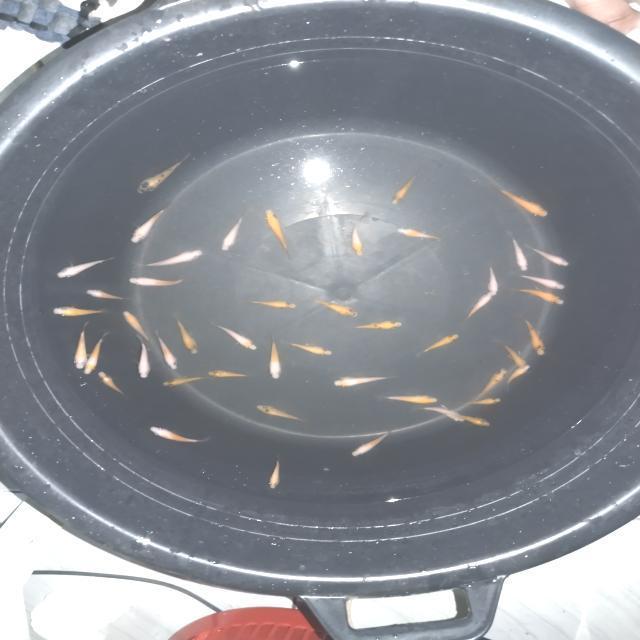nila: (134, 154, 196, 198), (486, 183, 552, 220), (260, 206, 296, 262), (136, 246, 212, 272), (208, 322, 258, 358), (148, 422, 217, 447), (127, 205, 167, 248), (511, 281, 568, 310), (54, 256, 122, 280), (520, 242, 577, 270), (344, 213, 376, 260), (348, 426, 393, 459), (168, 312, 202, 354), (388, 166, 422, 207), (518, 312, 548, 358), (492, 334, 530, 370), (410, 403, 466, 427), (413, 333, 462, 360), (82, 329, 110, 376), (310, 298, 362, 323), (251, 402, 310, 424), (460, 288, 498, 322), (390, 223, 446, 246), (120, 309, 154, 343), (504, 229, 530, 273), (280, 338, 334, 359), (512, 271, 568, 291), (126, 272, 196, 288), (332, 372, 394, 390), (264, 330, 286, 380), (218, 212, 244, 254), (377, 392, 444, 408), (154, 328, 178, 372), (474, 368, 508, 398), (50, 303, 115, 318), (72, 318, 90, 371), (451, 409, 494, 431), (482, 258, 504, 298), (98, 369, 130, 396), (243, 298, 300, 313), (506, 361, 532, 393), (154, 374, 212, 388), (348, 319, 404, 333), (86, 286, 128, 304), (456, 393, 506, 408), (136, 336, 152, 381), (265, 454, 284, 491), (204, 368, 252, 380)
